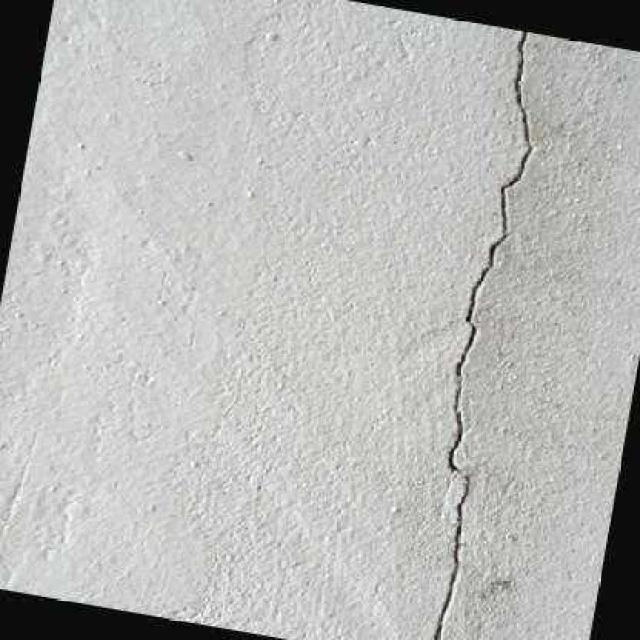D00: (432, 30, 530, 640)
